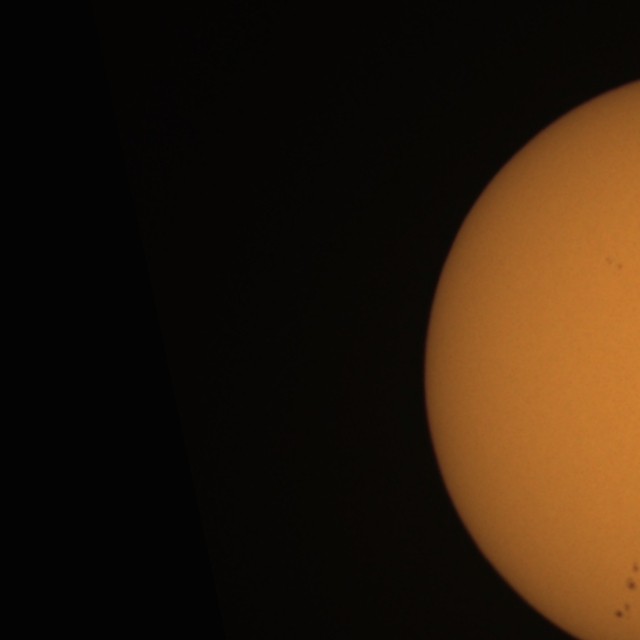sunspot: (624, 562, 640, 594), (613, 601, 632, 620), (604, 256, 624, 272)
